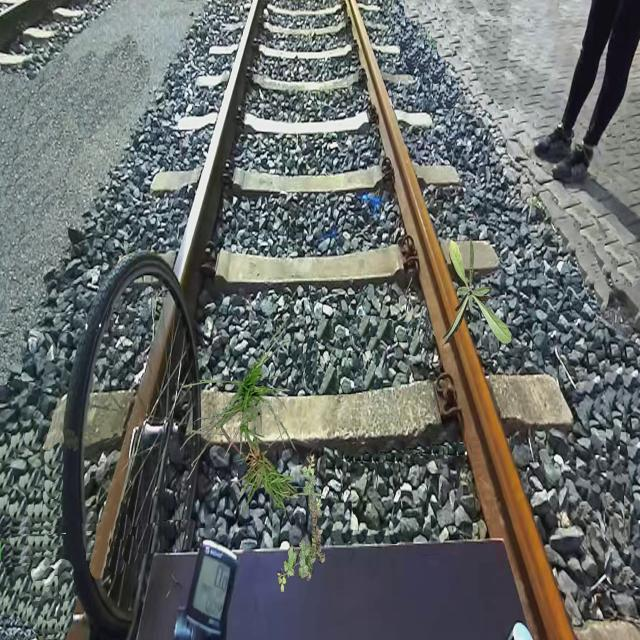Plant: (180, 318, 298, 482), (191, 400, 334, 520), (440, 238, 512, 346), (277, 454, 326, 592)
